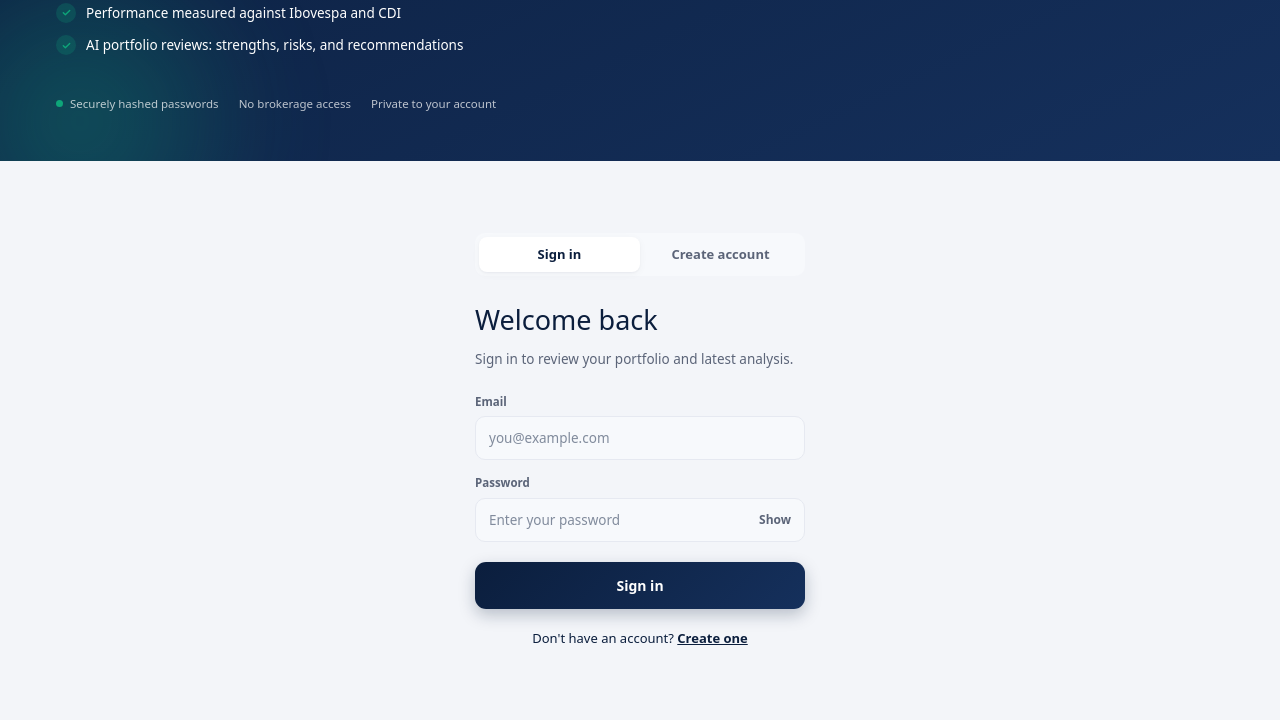
Scenario: AuthScreen (signin mode) › typing a valid email after a failed submit clears the email error without another submit
(page scrolled)
Click the button "Sign in" below "Email" at (640, 585), box left=475, top=562, right=805, bottom=609
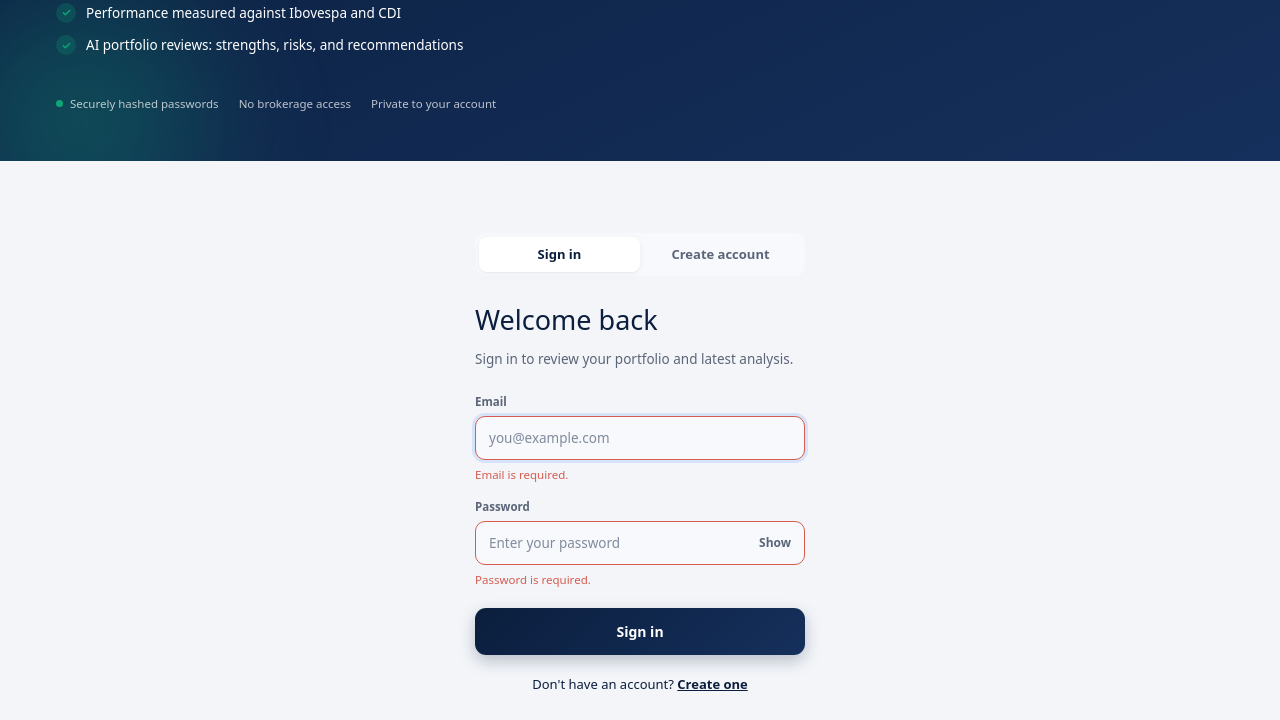
Now the text "Email is required." is shown, box left=475, top=467, right=568, bottom=482
Type "ana@example.com" into the field labelled "Email" at (640, 438), box left=475, top=416, right=805, bottom=460
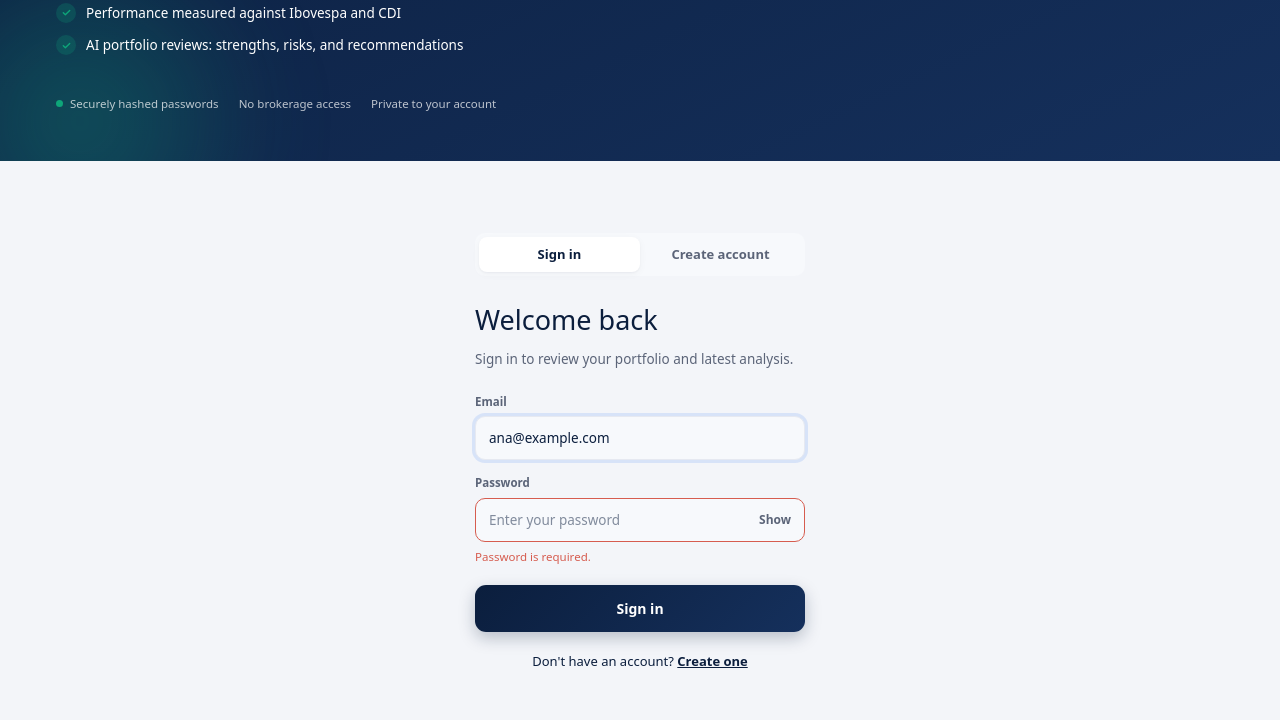
Now the text "Email is required." is gone
